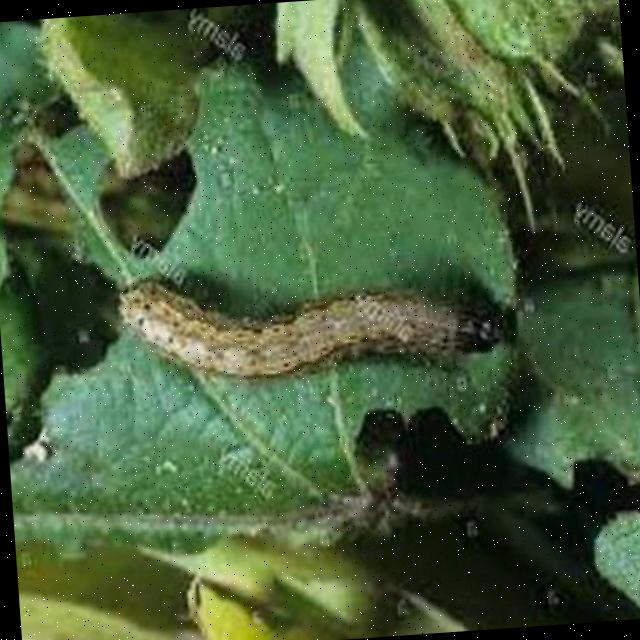worm: (115, 251, 511, 398)
